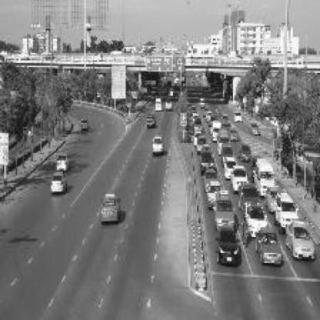other: (90, 184, 128, 224)
